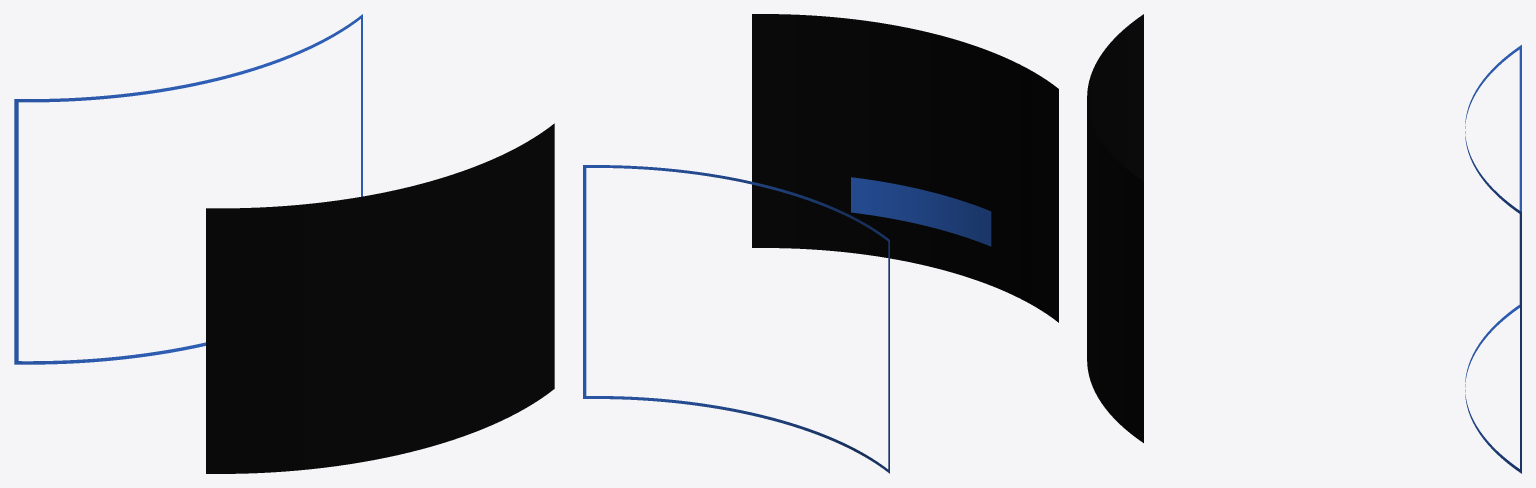
File: ___panel_social.fbx
The picture shows the model from 3 angles, left to right: view 1: azimuth 30°, elevation 25°; view 2: azimuth 150°, elevation 25°; view 3: azimuth 270°, elevation 25°; orthographic projection. The views are drawn at different scales.
Parts seen in each view (by area): view 1: ___panel_social, ___frame; view 2: ___panel_social, ___container, ___frame; view 3: ___panel_social, ___frame.
Boxes of the visible parts, box(x1,y1,x2,y2) form: ___panel_social: box(206, 123, 554, 473); ___frame: box(14, 14, 362, 364); ___panel_social: box(752, 14, 1058, 322); ___container: box(851, 177, 991, 246); ___frame: box(583, 165, 889, 473); ___panel_social: box(1087, 14, 1143, 442); ___frame: box(1465, 45, 1521, 473).
Bounding box in the file's own units: 52.99 × 43.1 × 58.1.
